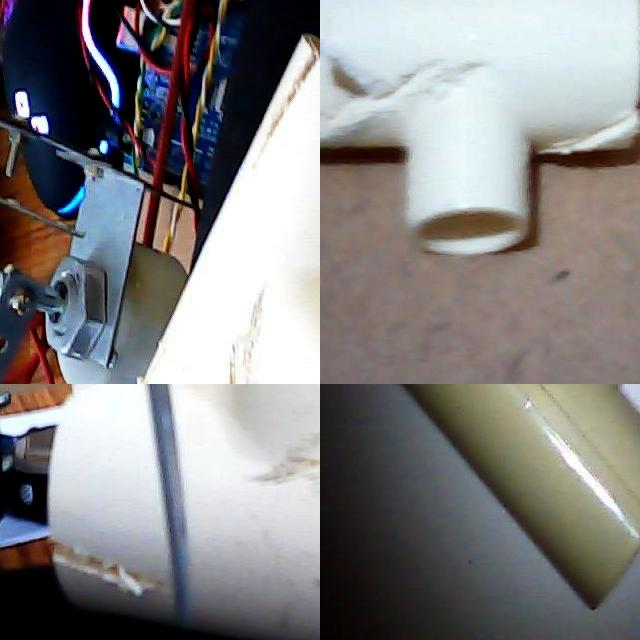Defective: (148, 282, 309, 384), (320, 2, 421, 154), (48, 520, 159, 606), (534, 95, 640, 175), (264, 43, 320, 161), (68, 384, 150, 396)
T Joint: (48, 384, 320, 640), (139, 34, 320, 384), (402, 384, 640, 612)
